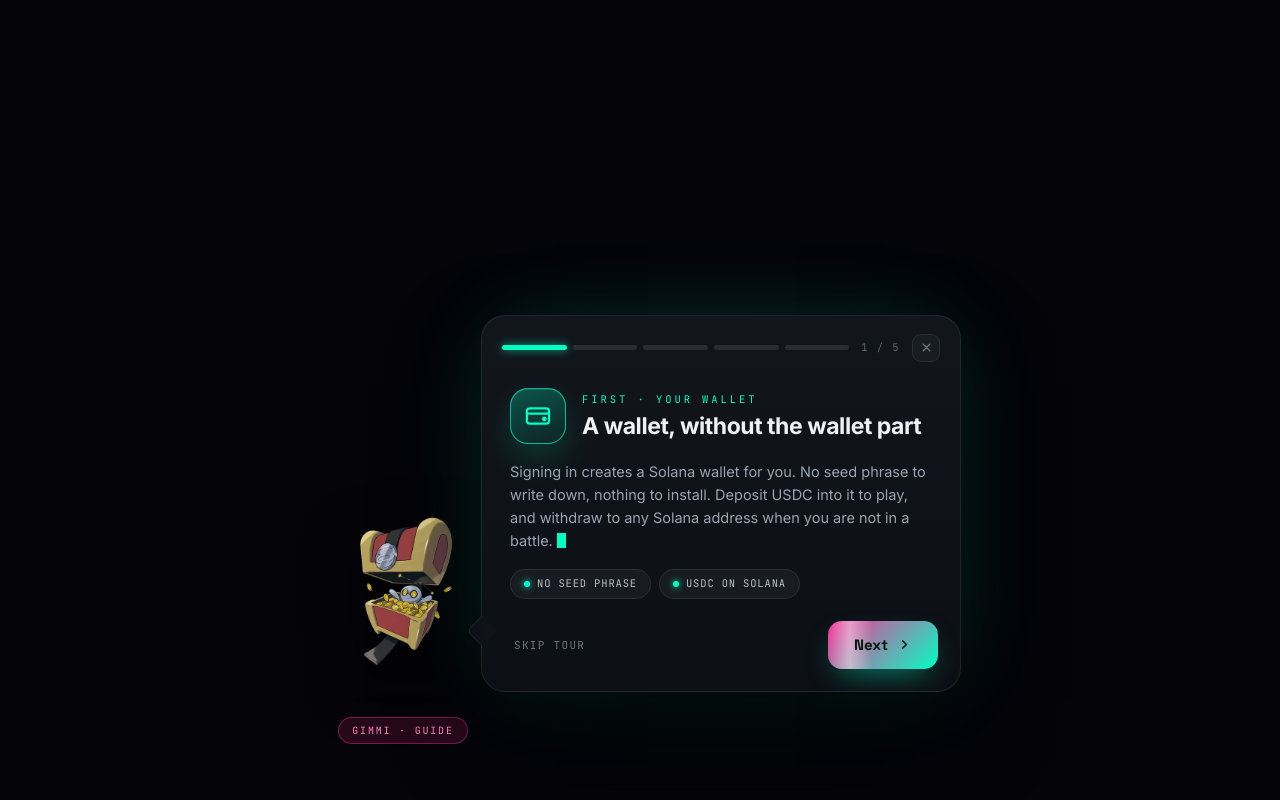
OnboardingTutorial › el orden es wallet, royale, pack, gacha, gimmighouls
Expected: the heading "A wallet, without the wallet part" is shown, [582,413,921,440]
Click the button "Next".
click(883, 645)  # box [828,620,938,669]
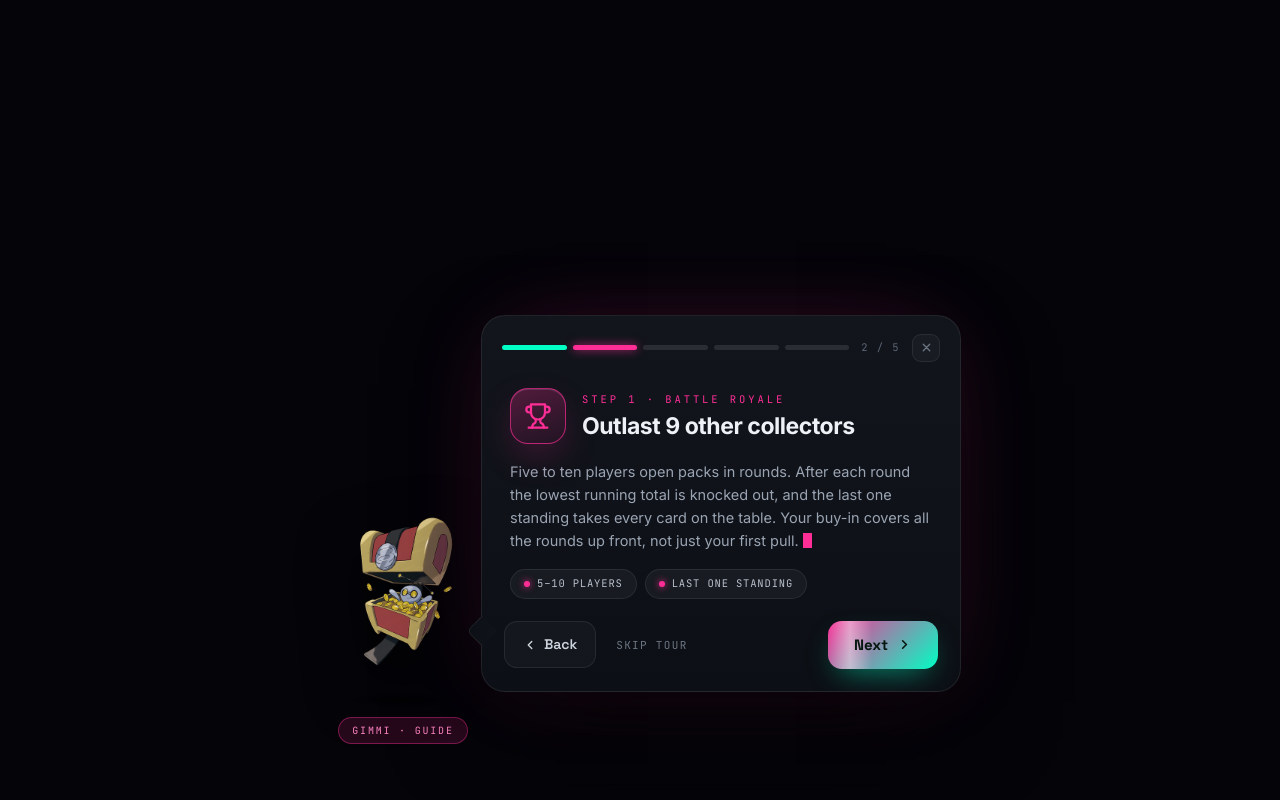
Now the heading "Outlast 9 other collectors" is shown, box [582,413,855,440]
Click the button "Next".
click(883, 645)  # box [828,620,938,669]
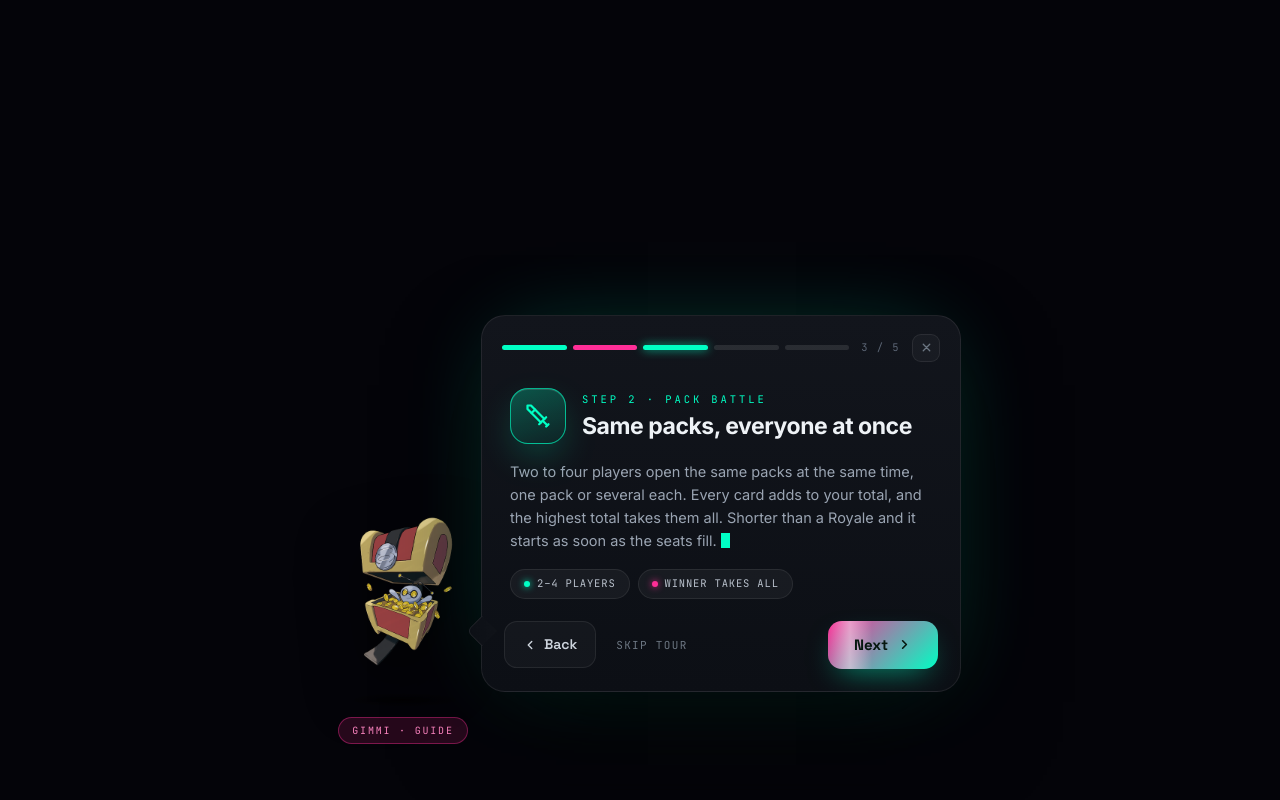
Now the heading "Same packs, everyone at once" is shown, box [582,413,912,440]
Click the button "Next".
click(883, 645)  # box [828,620,938,669]
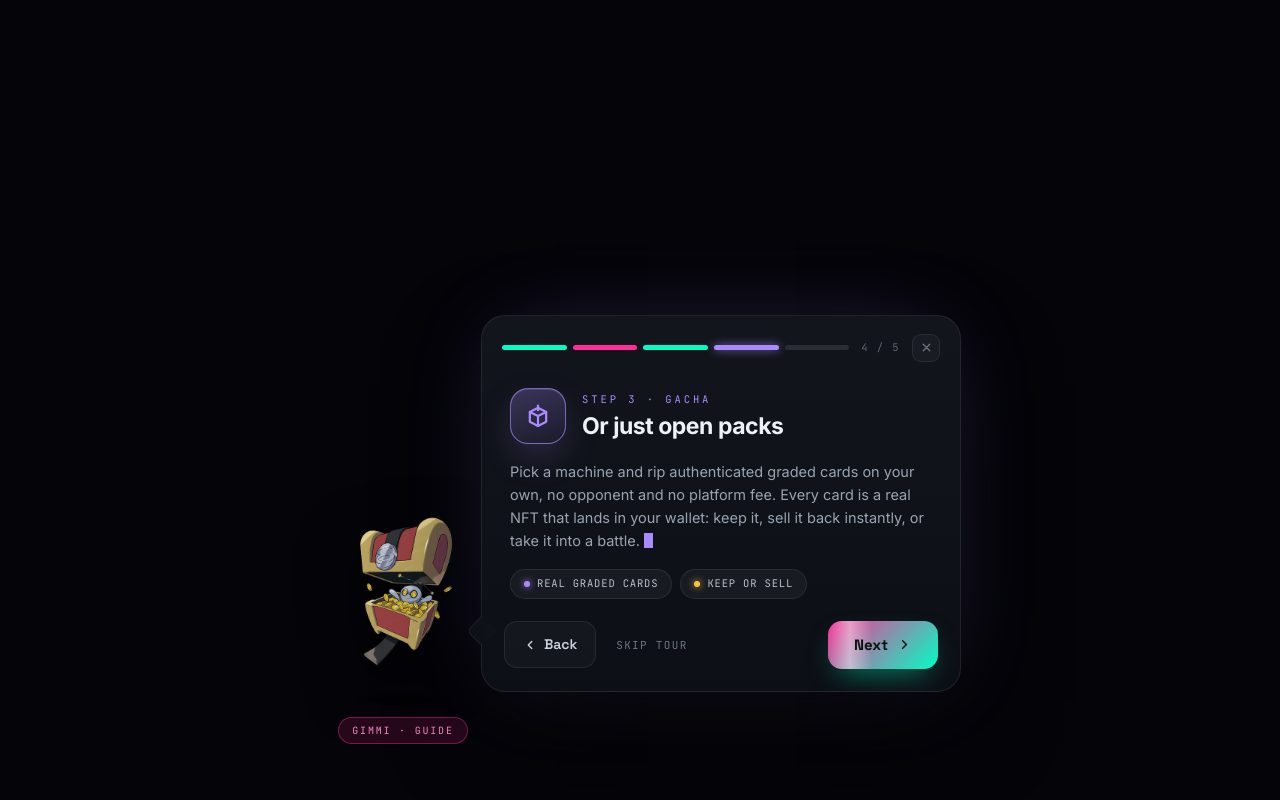
Now the heading "Or just open packs" is shown, box [582,413,784,440]
Click the button "Next".
click(883, 645)  # box [828,620,938,669]
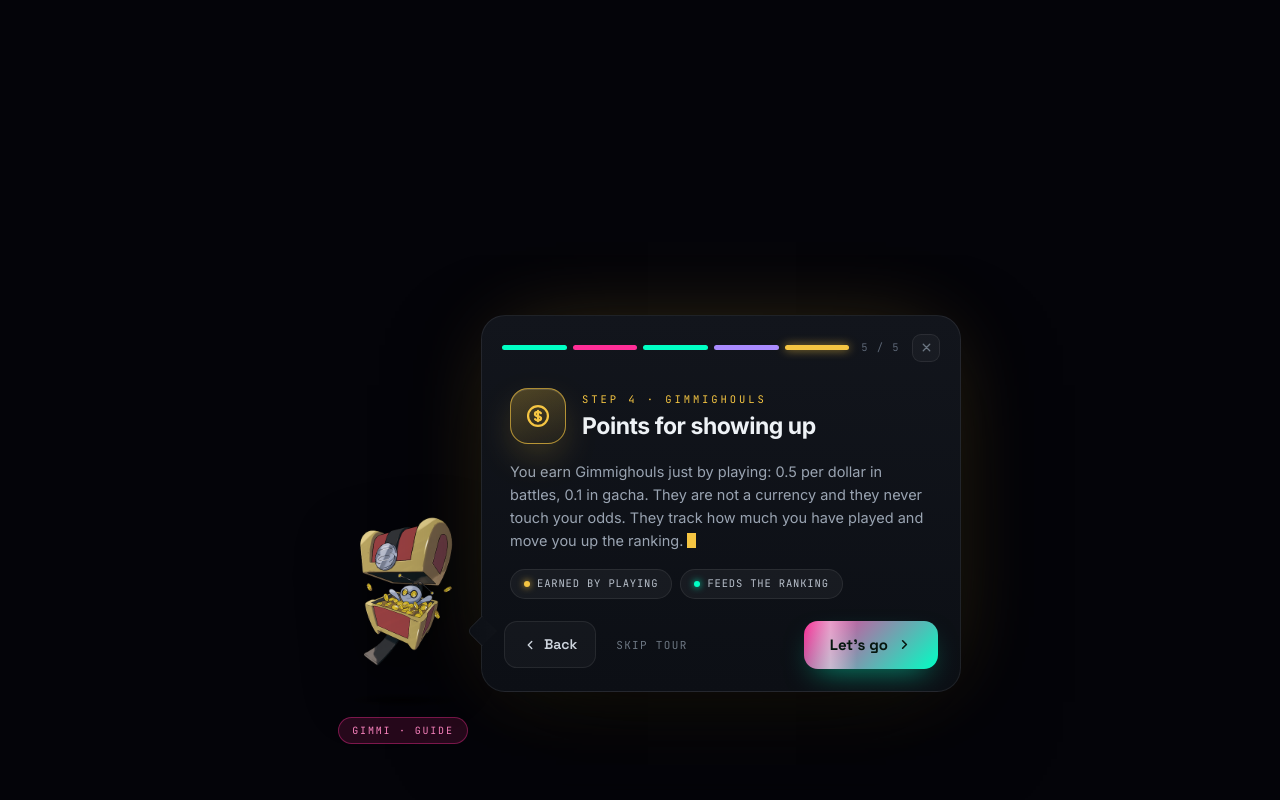
Now the heading "Points for showing up" is shown, box [582,413,816,440]
Now the text "Let's go" is shown, box [830,634,888,656]
Now the button "Next" is gone
